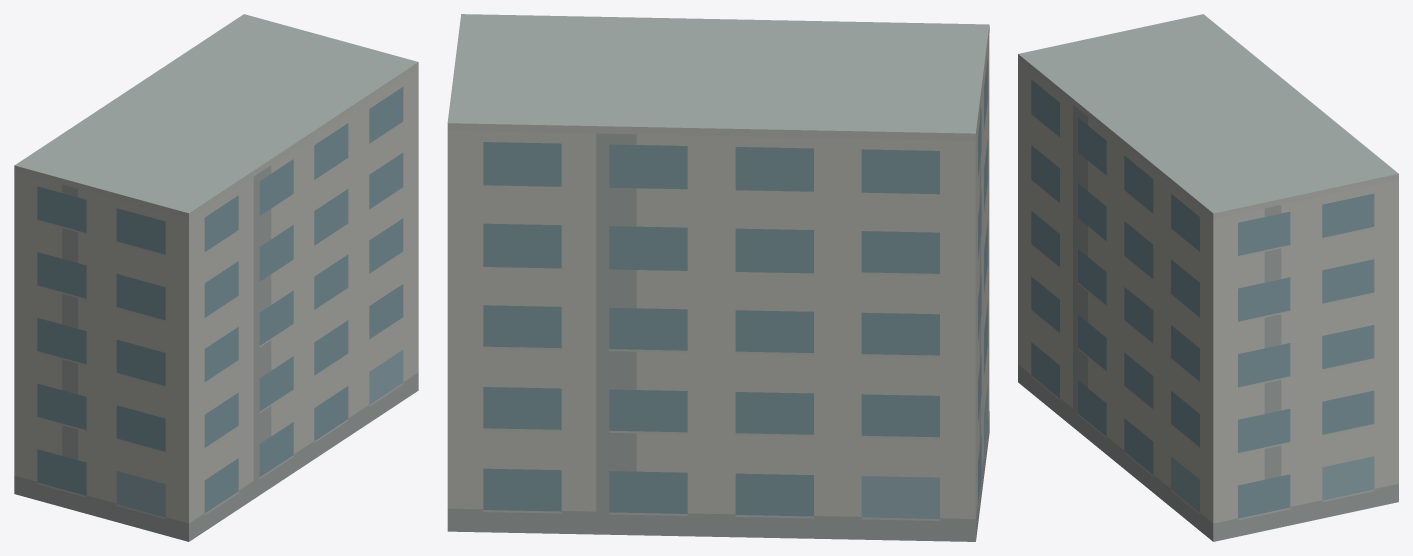
File: survey-upis-32835534.glb
The picture shows the model from 3 angles, left to right: view 1: azimuth 30°, elevation 25°; view 2: azimuth 150°, elevation 25°; view 3: azimuth 270°, elevation 25°; orthographic projection. The views are drawn at different scales.
Visible parts, largest first — view 1: survey-upis-32835534.tmp; view 2: survey-upis-32835534.tmp; view 3: survey-upis-32835534.tmp.
Boxes of the visible parts, bbox=[...] form: survey-upis-32835534.tmp: bbox=[14, 14, 418, 541]; survey-upis-32835534.tmp: bbox=[447, 14, 989, 541]; survey-upis-32835534.tmp: bbox=[1018, 14, 1398, 541].
Bounding box in the file's own units: 17.47 × 13.4 × 14.09.
